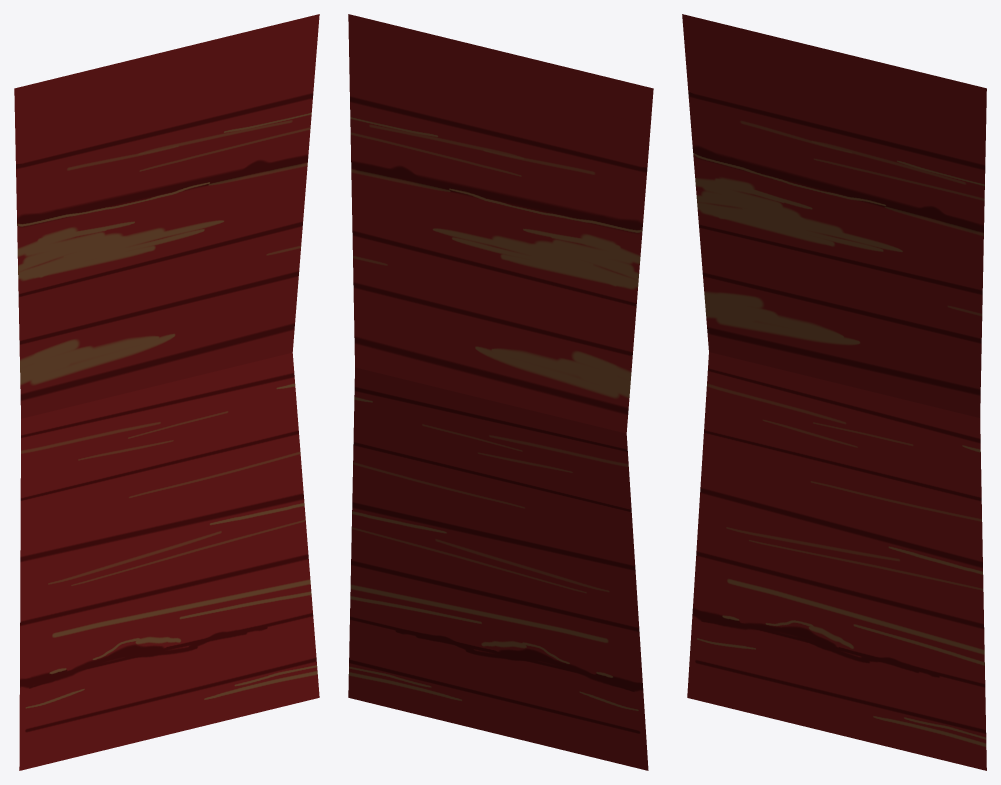
File: SM_red_Wall_half.fbx
3 views of the same model, side by side, from view 1: azimuth 30°, elevation 25°; view 2: azimuth 150°, elevation 25°; view 3: azimuth 330°, elevation 25° (orthographic).
Visible parts, largest first — view 1: floor_big.025; view 2: floor_big.025; view 3: floor_big.025.
Boxes of the visible parts, x1,y1,x2,y2 form: floor_big.025: (14, 14, 319, 770); floor_big.025: (348, 14, 653, 770); floor_big.025: (682, 14, 986, 770).
Size of the model in its own units: 93.45 by 200 by 5.35.
Materials: 1 (1 with a texture image).
